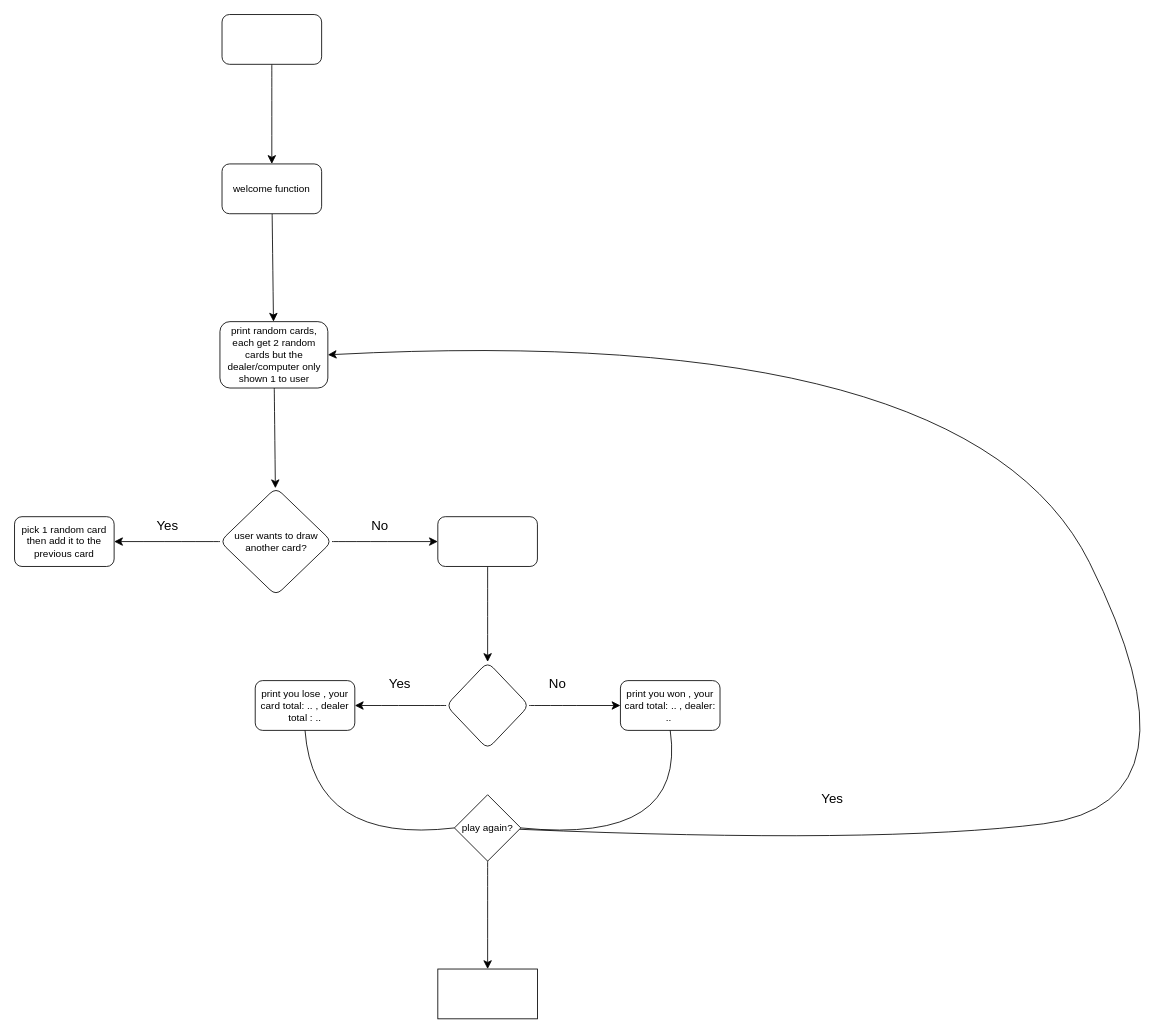
The diagram is 1155 pixels wide and 1033 high, and some of its shapes have lost their labels. Each missing label, with the centre of its shape:
compare user card with dealer: the point at 487,541
print thanks for playing: the point at 487,993
start: the point at 271,39
user card > dealer?: the point at 487,705
